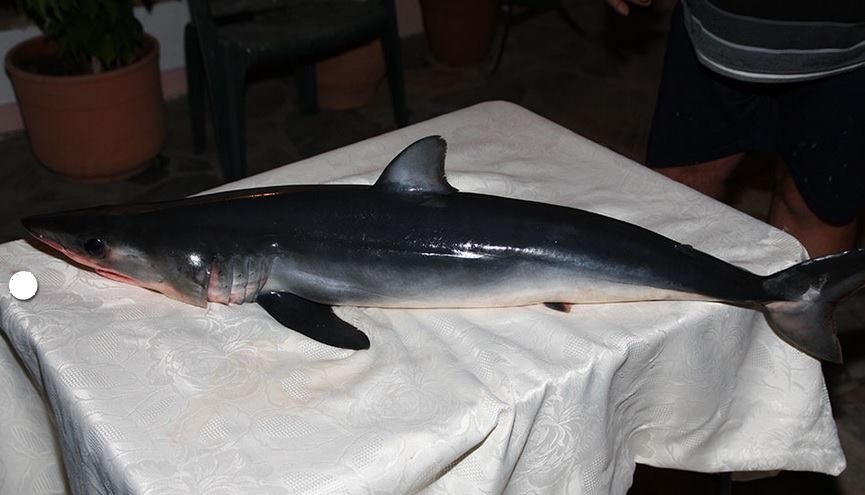shark: (24, 105, 852, 402)
